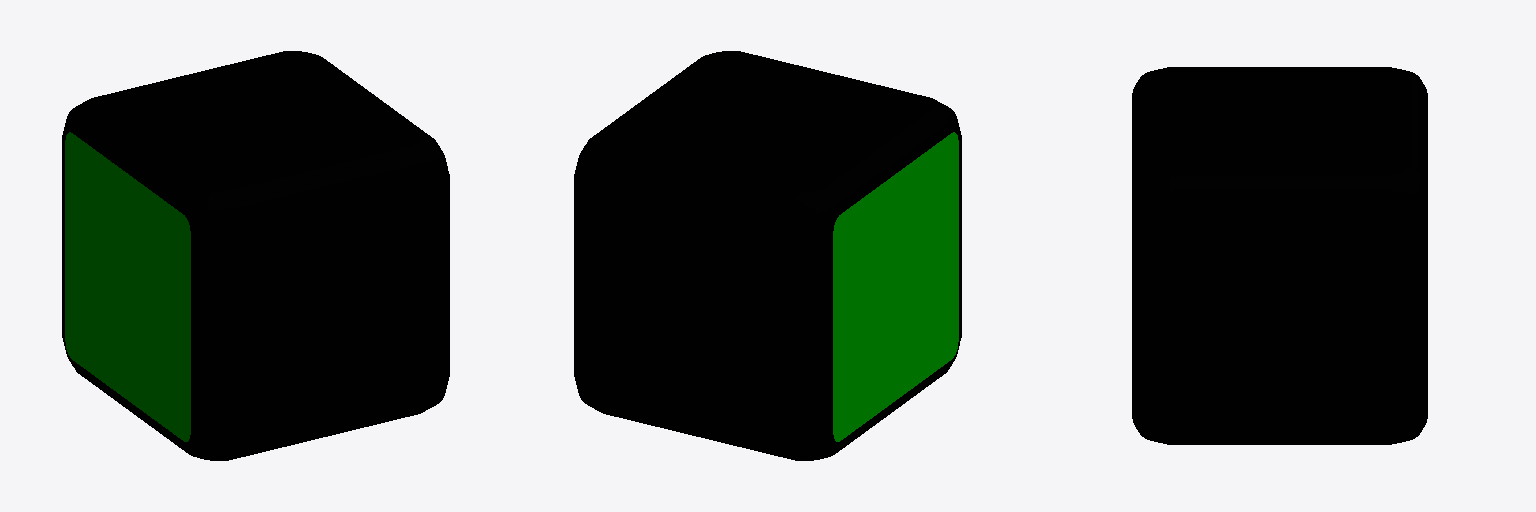
The model's file is center_g.obj.
3 renders of one model, left to right at view 1: azimuth 30°, elevation 25°; view 2: azimuth 150°, elevation 25°; view 3: azimuth 270°, elevation 25°, orthographic.
Parts seen in each view (by area): view 1: Cube; view 2: Cube; view 3: Cube.
Part boxes in pixels (x1,y1,x2,y2): Cube: (62, 51, 449, 460); Cube: (574, 51, 961, 460); Cube: (1132, 67, 1427, 444).
Bounding box in the file's own units: 2 × 2 × 2.